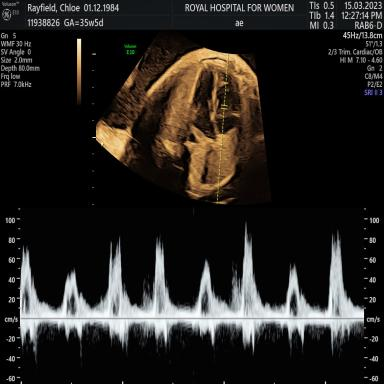Ultrasound-Waves: (23, 213, 363, 384)
